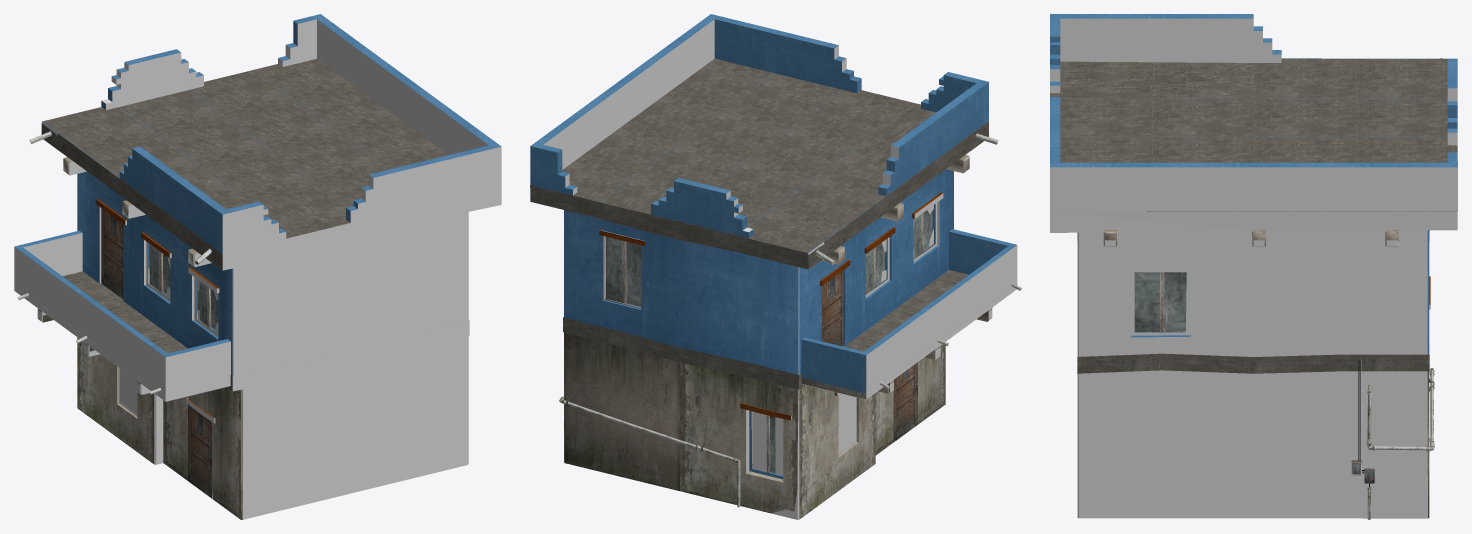
Rendered from hei_prop_heist_pic_04.fbx.
3 renders of one model, left to right at view 1: azimuth 30°, elevation 25°; view 2: azimuth 150°, elevation 25°; view 3: azimuth 270°, elevation 25°, orthographic. The views are drawn at different scales.
Parts seen in each view (by area): view 1: UTM_Geometry, Object_LOD0; view 2: Object_LOD0, UTM_Geometry; view 3: UTM_Geometry, Object_LOD0.
Part boxes in pixels (<box>): UTM_Geometry: <box>14,19,501,519</box>; Object_LOD0: <box>14,14,501,519</box>; Object_LOD0: <box>530,14,1020,519</box>; UTM_Geometry: <box>543,19,1021,519</box>; UTM_Geometry: <box>1050,18,1457,519</box>; Object_LOD0: <box>1050,14,1457,519</box>.
Bounding box in the file's own units: 879 × 806 × 822.
